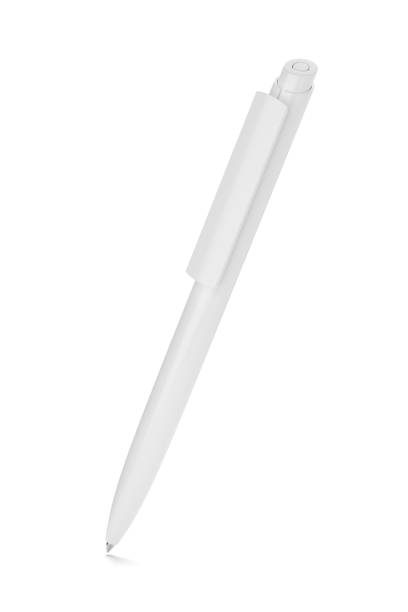pen: (87, 52, 331, 557)
